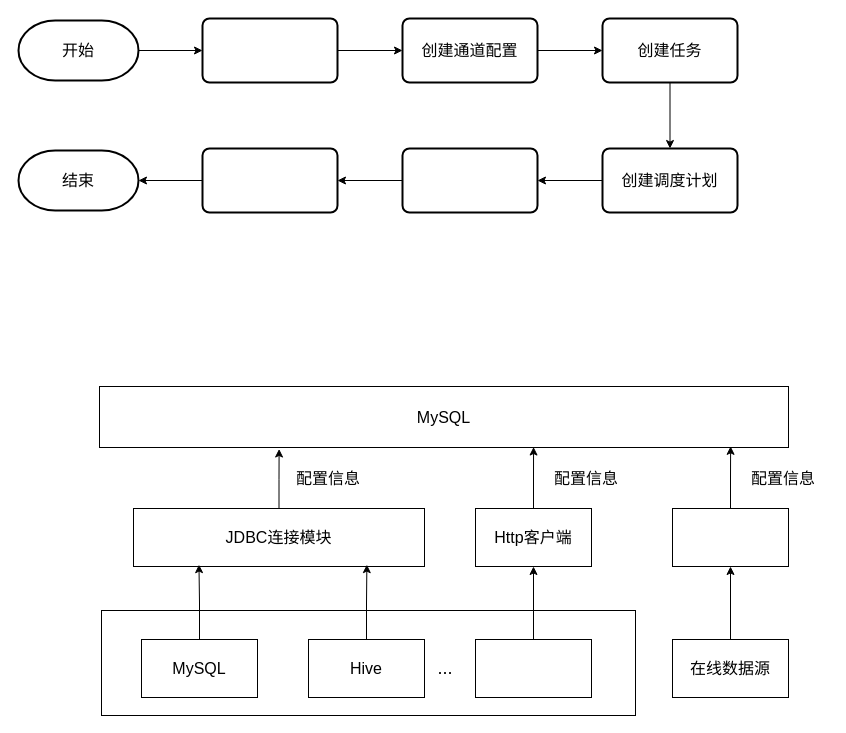
The diagram is 846 pixels wide and 733 high, and some of its shapes have lost their labels. The shapes that lost their labels are listed below. From the top down, each one's centre as x and y in pixels, then its label:
the point at 269,50: 创建数据源
the point at 269,180: 数据同步与转化
the point at 469,180: 执行调度计划
the point at 730,537: Netty客户端
the point at 533,668: Restful API
